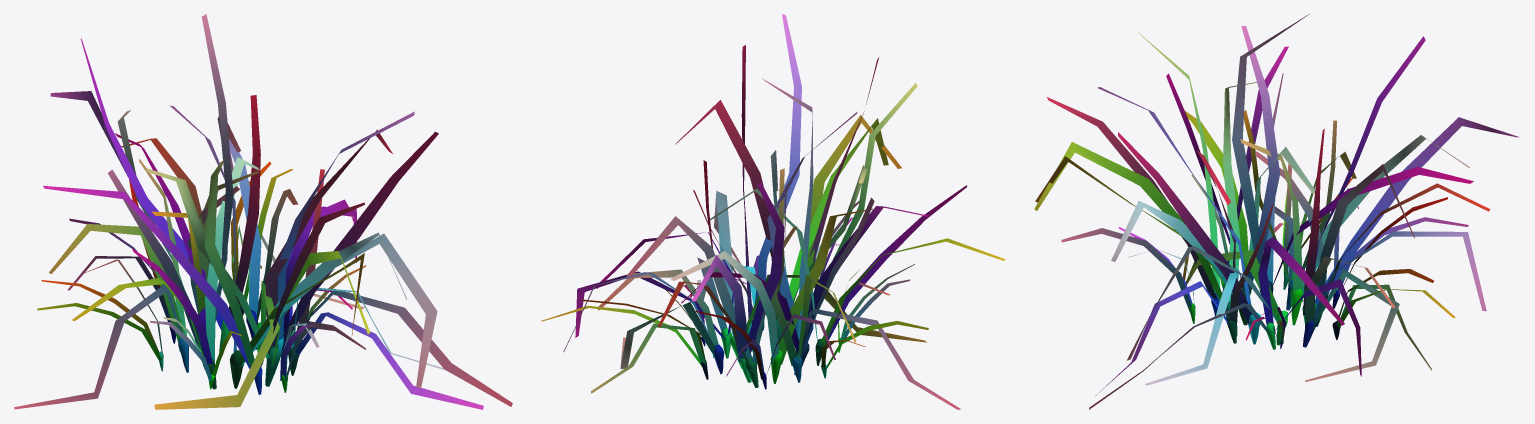
Rendered from Ribbon_Grass_tbdpec3r_High_tbdpec3r_VarB_LOD1.fbx.
3 views of the same model, side by side, from view 1: azimuth 30°, elevation 25°; view 2: azimuth 150°, elevation 25°; view 3: azimuth 270°, elevation 25° (orthographic). The views are drawn at different scales.
Visible parts, largest first — view 1: _32d4_VarB_LOD2; view 2: _32d4_VarB_LOD2; view 3: _32d4_VarB_LOD2.
Boxes of the visible parts, <box> form: _32d4_VarB_LOD2: <box>14,14,512,409</box>; _32d4_VarB_LOD2: <box>541,14,1005,409</box>; _32d4_VarB_LOD2: <box>1034,14,1519,409</box>.
Size of the model in its own units: 53.01 by 44.95 by 62.89.
